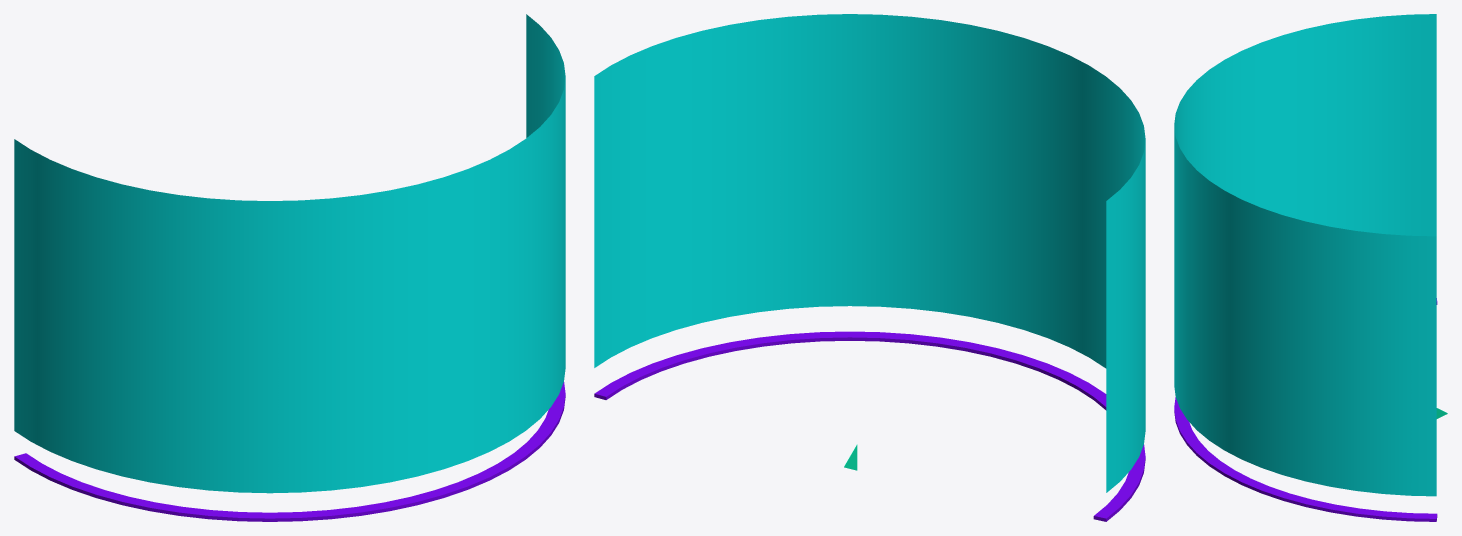
The picture shows the model from 3 angles, left to right: view 1: azimuth 30°, elevation 25°; view 2: azimuth 150°, elevation 25°; view 3: azimuth 270°, elevation 25°; orthographic projection. The views are drawn at different scales.
Parts seen in each view (by area): view 1: Screen, Bar; view 2: Screen, Bar; view 3: Screen, Bar.
Part boxes in pixels (<box>): Screen: <box>14,14,565,493</box>; Bar: <box>14,382,565,521</box>; Screen: <box>594,14,1145,492</box>; Bar: <box>594,331,1145,521</box>; Screen: <box>1174,14,1436,496</box>; Bar: <box>1174,298,1437,521</box>.
Size of the model in its own units: 2.1 by 1.32 by 1.09.
